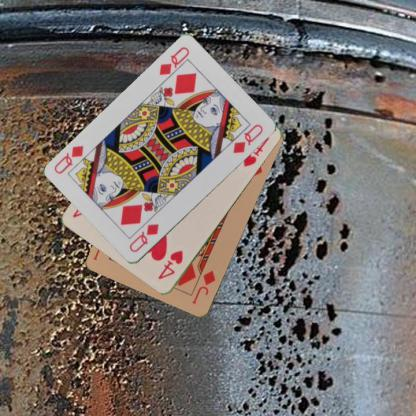4h: (156, 248, 184, 281)
Jd: (190, 268, 216, 306)
Qd: (156, 44, 191, 84), (127, 221, 160, 254)
